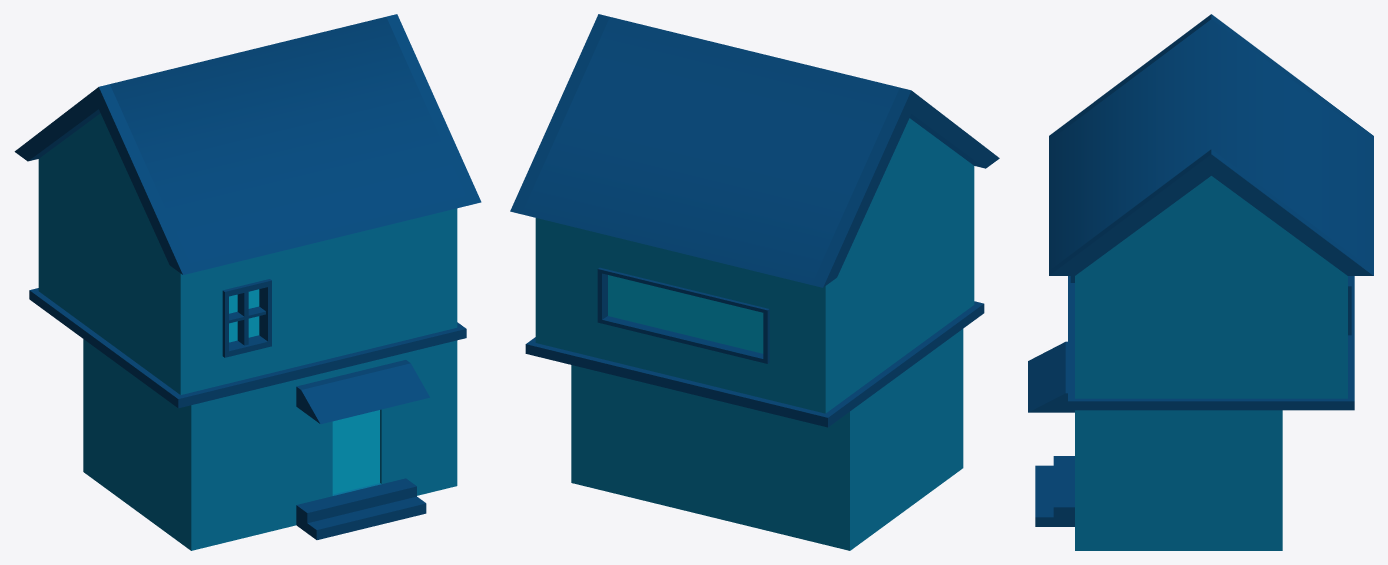
The model's file is townHouse_var1_v02.fbx.
The picture shows the model from 3 angles, left to right: view 1: azimuth 30°, elevation 25°; view 2: azimuth 150°, elevation 25°; view 3: azimuth 270°, elevation 25°; orthographic projection. The views are drawn at different scales.
Visible parts, largest first — view 1: pCube1; view 2: pCube1; view 3: pCube1.
Part boxes in pixels (x1=…): pCube1: x1=14, y1=14, x2=481, y2=550; pCube1: x1=510, y1=14, x2=999, y2=550; pCube1: x1=1028, y1=14, x2=1373, y2=550.
Size of the model in its own units: 159 by 213 by 166.
